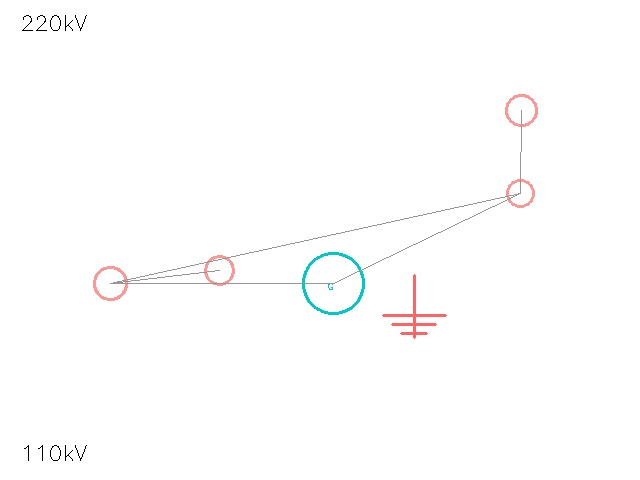disconnect_switch: (490, 79, 552, 141)
generator: (303, 253, 363, 313)
ground: (383, 275, 445, 337)
load_break_switch: (78, 251, 142, 315)
reactor: (493, 166, 547, 220)
surge_arrester: (190, 241, 248, 299)
